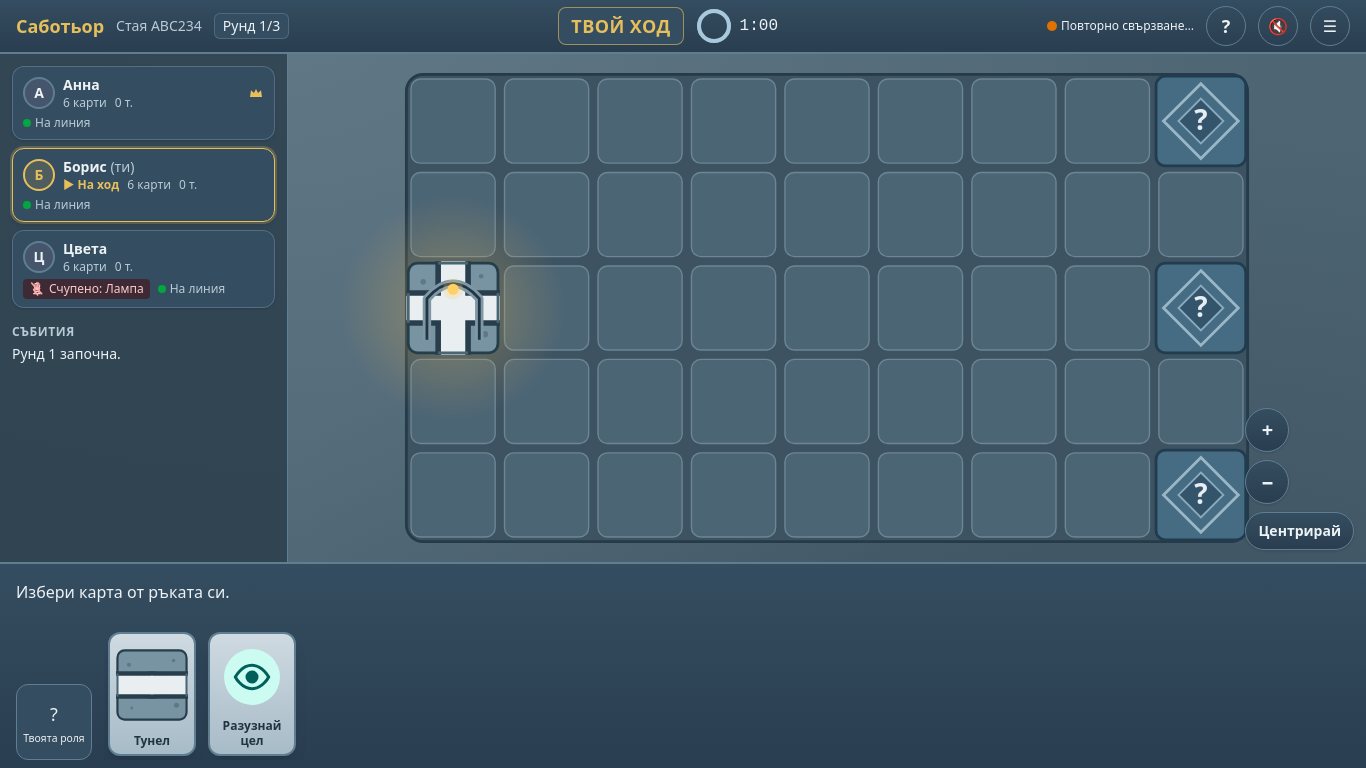
Test case: game screen › shows a dedicated refresh screen when the client is outdated
Expected: the list named "Твоите карти" is shown, x1=108 y1=632 x2=296 y2=756
Click the button "Разузнай цел": (252, 694) x1=208 y1=632 x2=296 y2=756
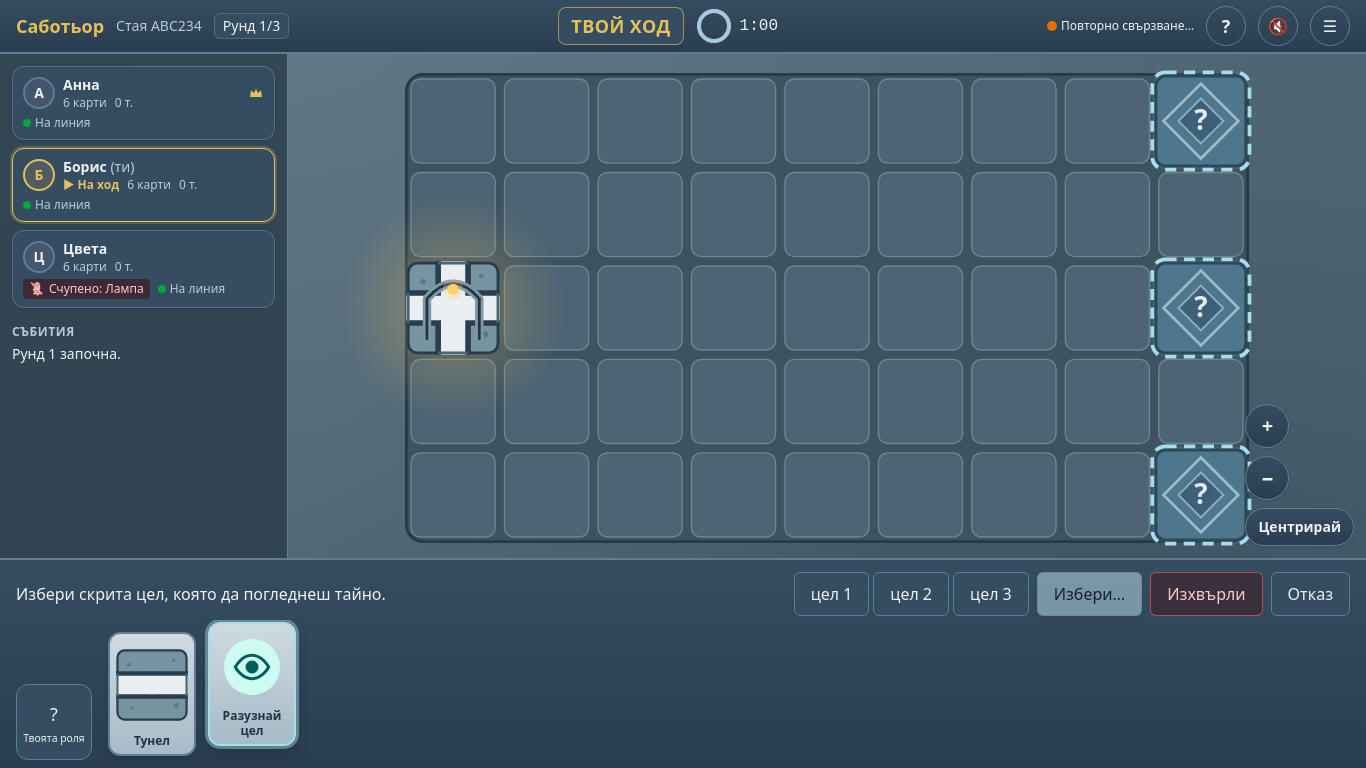
Click the button "Изхвърли": (1206, 594) x1=1150 y1=572 x2=1263 y2=616
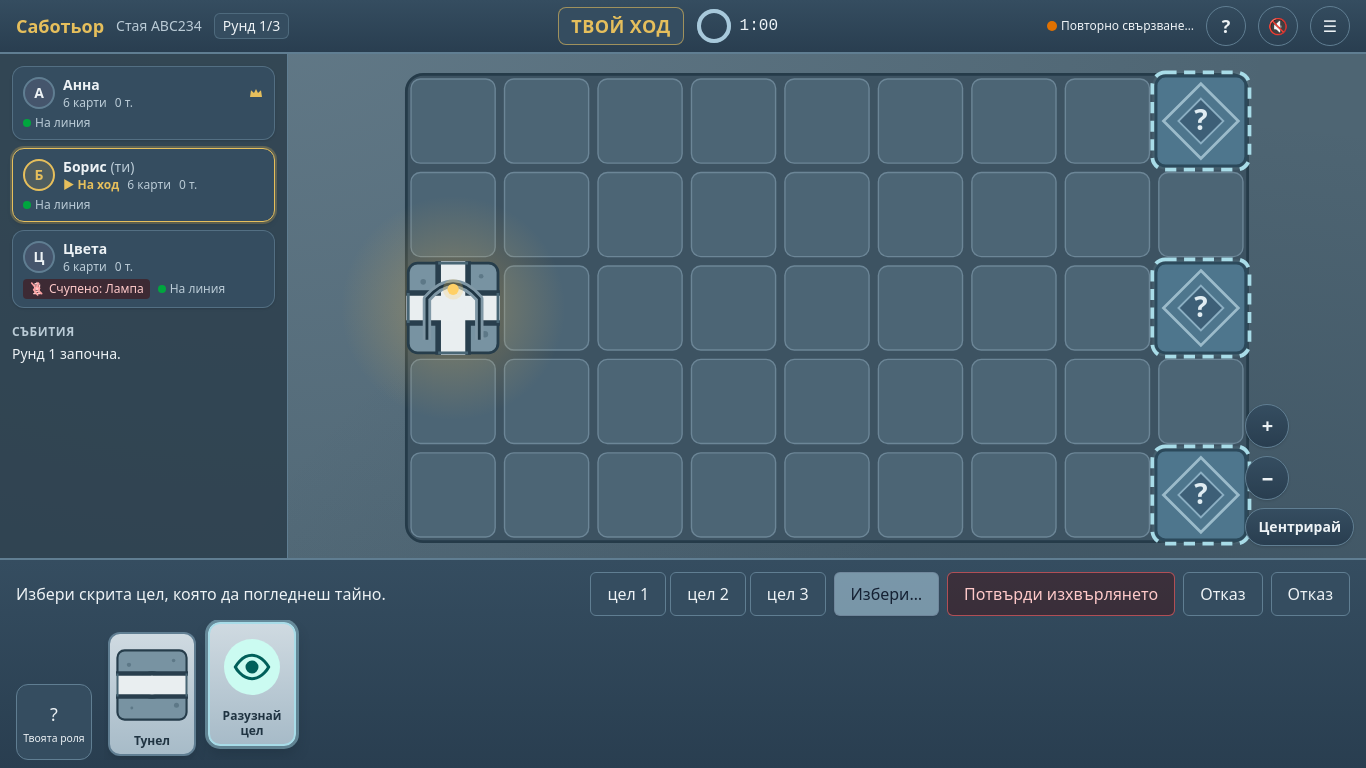
Click the button "Потвърди изхвърлянето": (1061, 594) x1=947 y1=572 x2=1175 y2=616
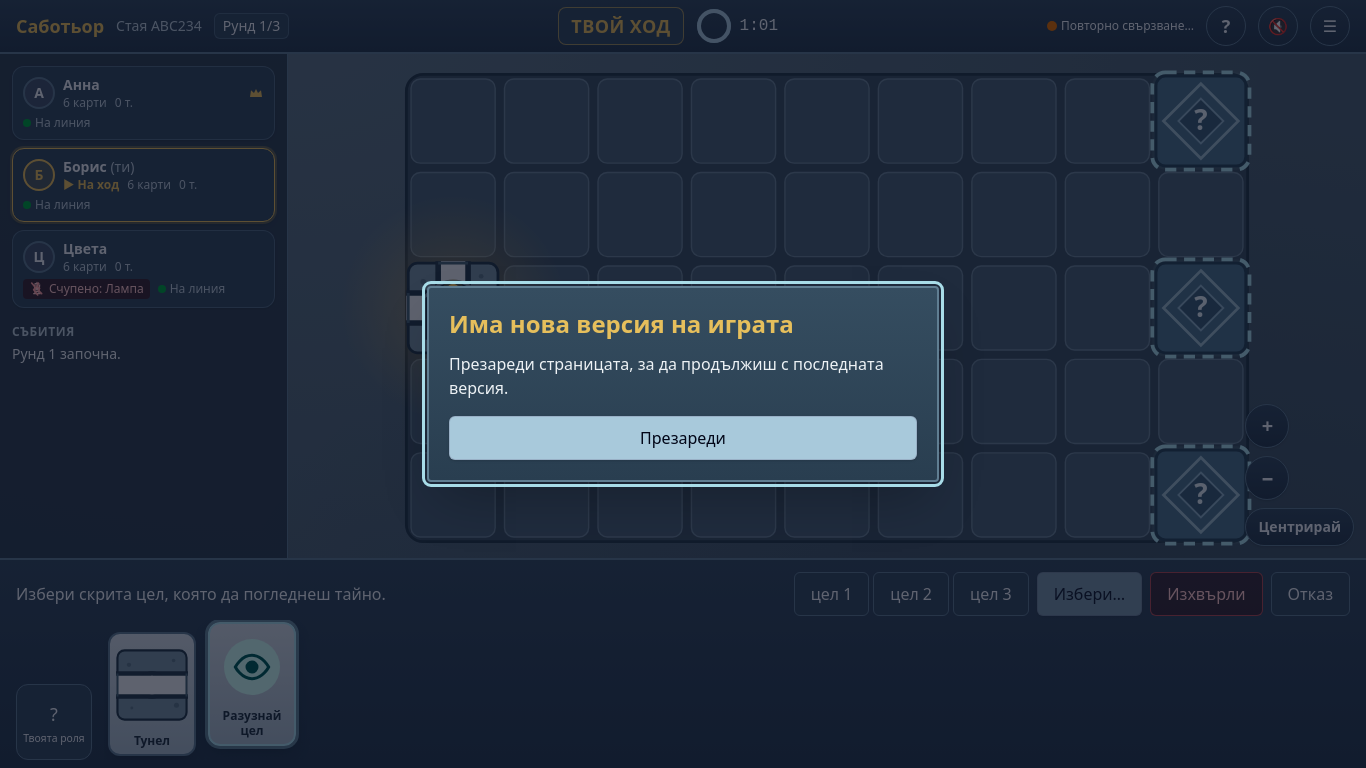
Expected: the button "Презареди" is shown, x1=449 y1=416 x2=917 y2=460
